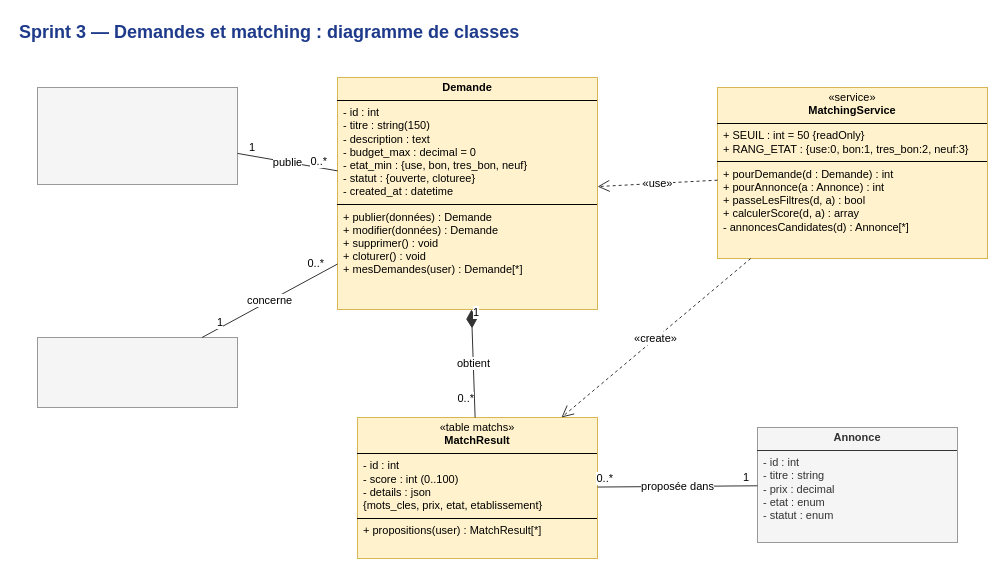
Image size: 1005x576. Some labels were removed from this diagram. Here are the shapes that lost their labels. From the top down, the centre of each, then its label:
pixel 137 135: User - id : int - etablissement : string + demandes() : Demande[*]
pixel 137 372: Categorie - id : int - nom : string
